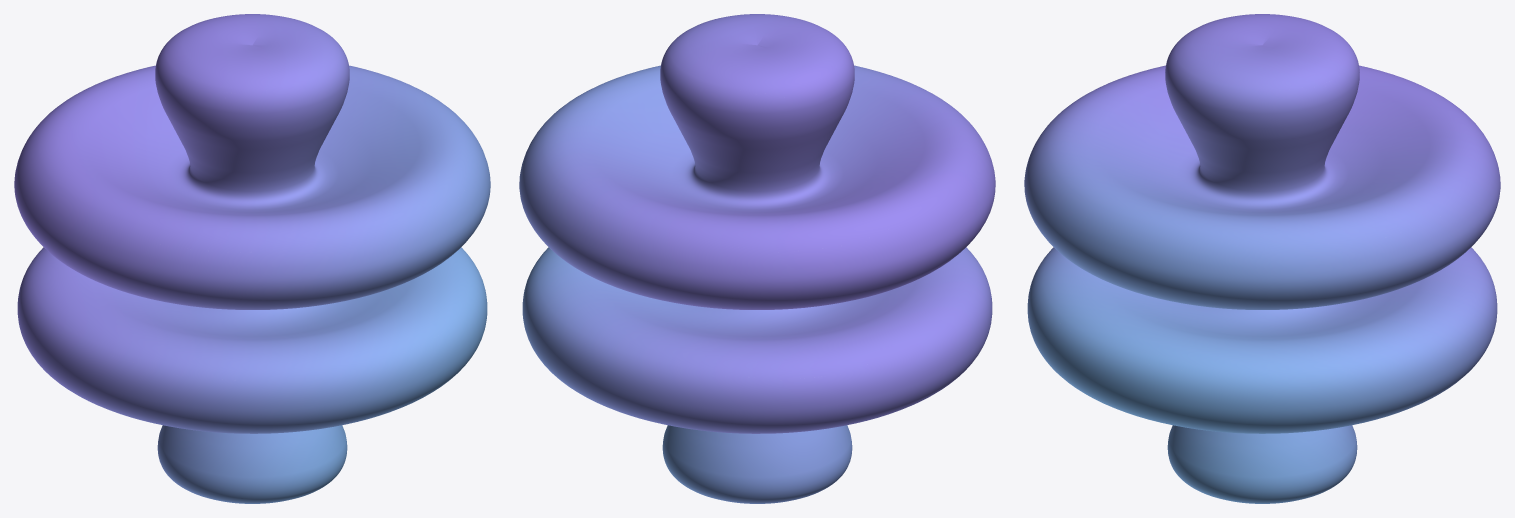
File: 03_swirlnut_static.glb
The picture shows the model from 3 angles, left to right: view 1: azimuth 30°, elevation 25°; view 2: azimuth 150°, elevation 25°; view 3: azimuth 270°, elevation 25°; orthographic projection.
Parts seen in each view (by area): view 1: pinch; view 2: pinch; view 3: pinch.
Part boxes in pixels (<box>): pinch: <box>14,14,490,503</box>; pinch: <box>519,14,995,503</box>; pinch: <box>1024,14,1500,503</box>.
Bounding box in the file's own units: 0.1251 × 0.1258 × 0.1251.
1 material, 1 textured.
